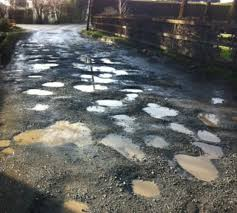pothole: (12, 118, 91, 156), (176, 137, 223, 196), (126, 173, 163, 205), (49, 191, 101, 211), (79, 58, 133, 76), (142, 100, 180, 116), (92, 94, 128, 109), (74, 73, 120, 83), (29, 59, 60, 72), (73, 82, 110, 92), (170, 120, 189, 138), (20, 103, 54, 113), (20, 87, 53, 96)
